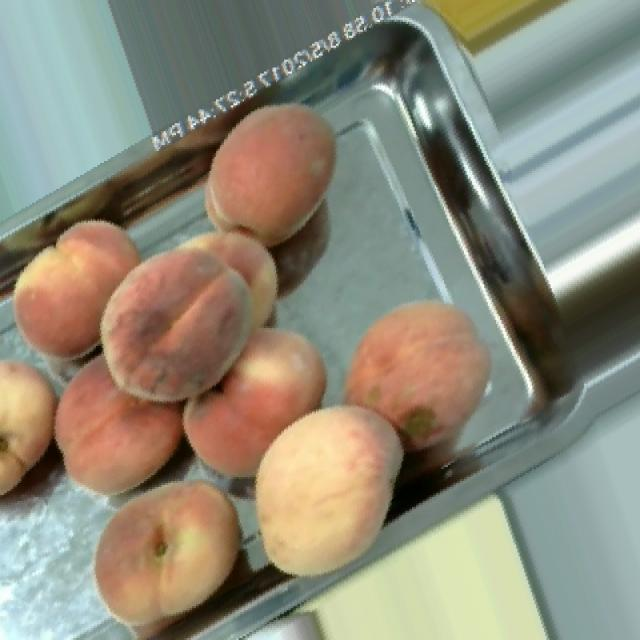Fruit: (209, 354, 427, 592), (104, 211, 312, 431), (330, 282, 514, 483), (75, 447, 262, 640), (181, 80, 359, 262), (0, 198, 160, 378), (45, 348, 194, 515), (386, 0, 630, 74), (0, 338, 64, 523)
